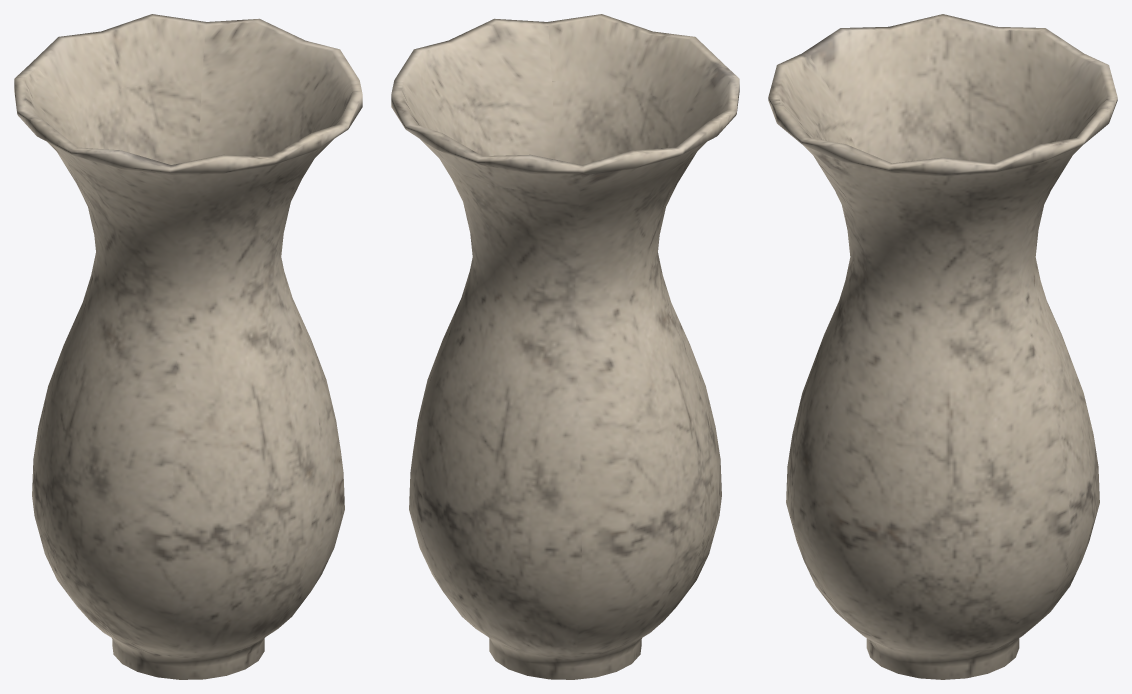
The model's file is fbx_Vaso_3.fbx.
The picture shows the model from 3 angles, left to right: view 1: azimuth 30°, elevation 25°; view 2: azimuth 150°, elevation 25°; view 3: azimuth 270°, elevation 25°; orthographic projection.
Visible parts, largest first — view 1: pCylinder16; view 2: pCylinder16; view 3: pCylinder16.
Boxes of the visible parts, <box> form: pCylinder16: <box>14,14,362,679</box>; pCylinder16: <box>391,14,739,679</box>; pCylinder16: <box>768,14,1117,679</box>.
Size of the model in its own units: 0.13 by 0.23 by 0.13.
